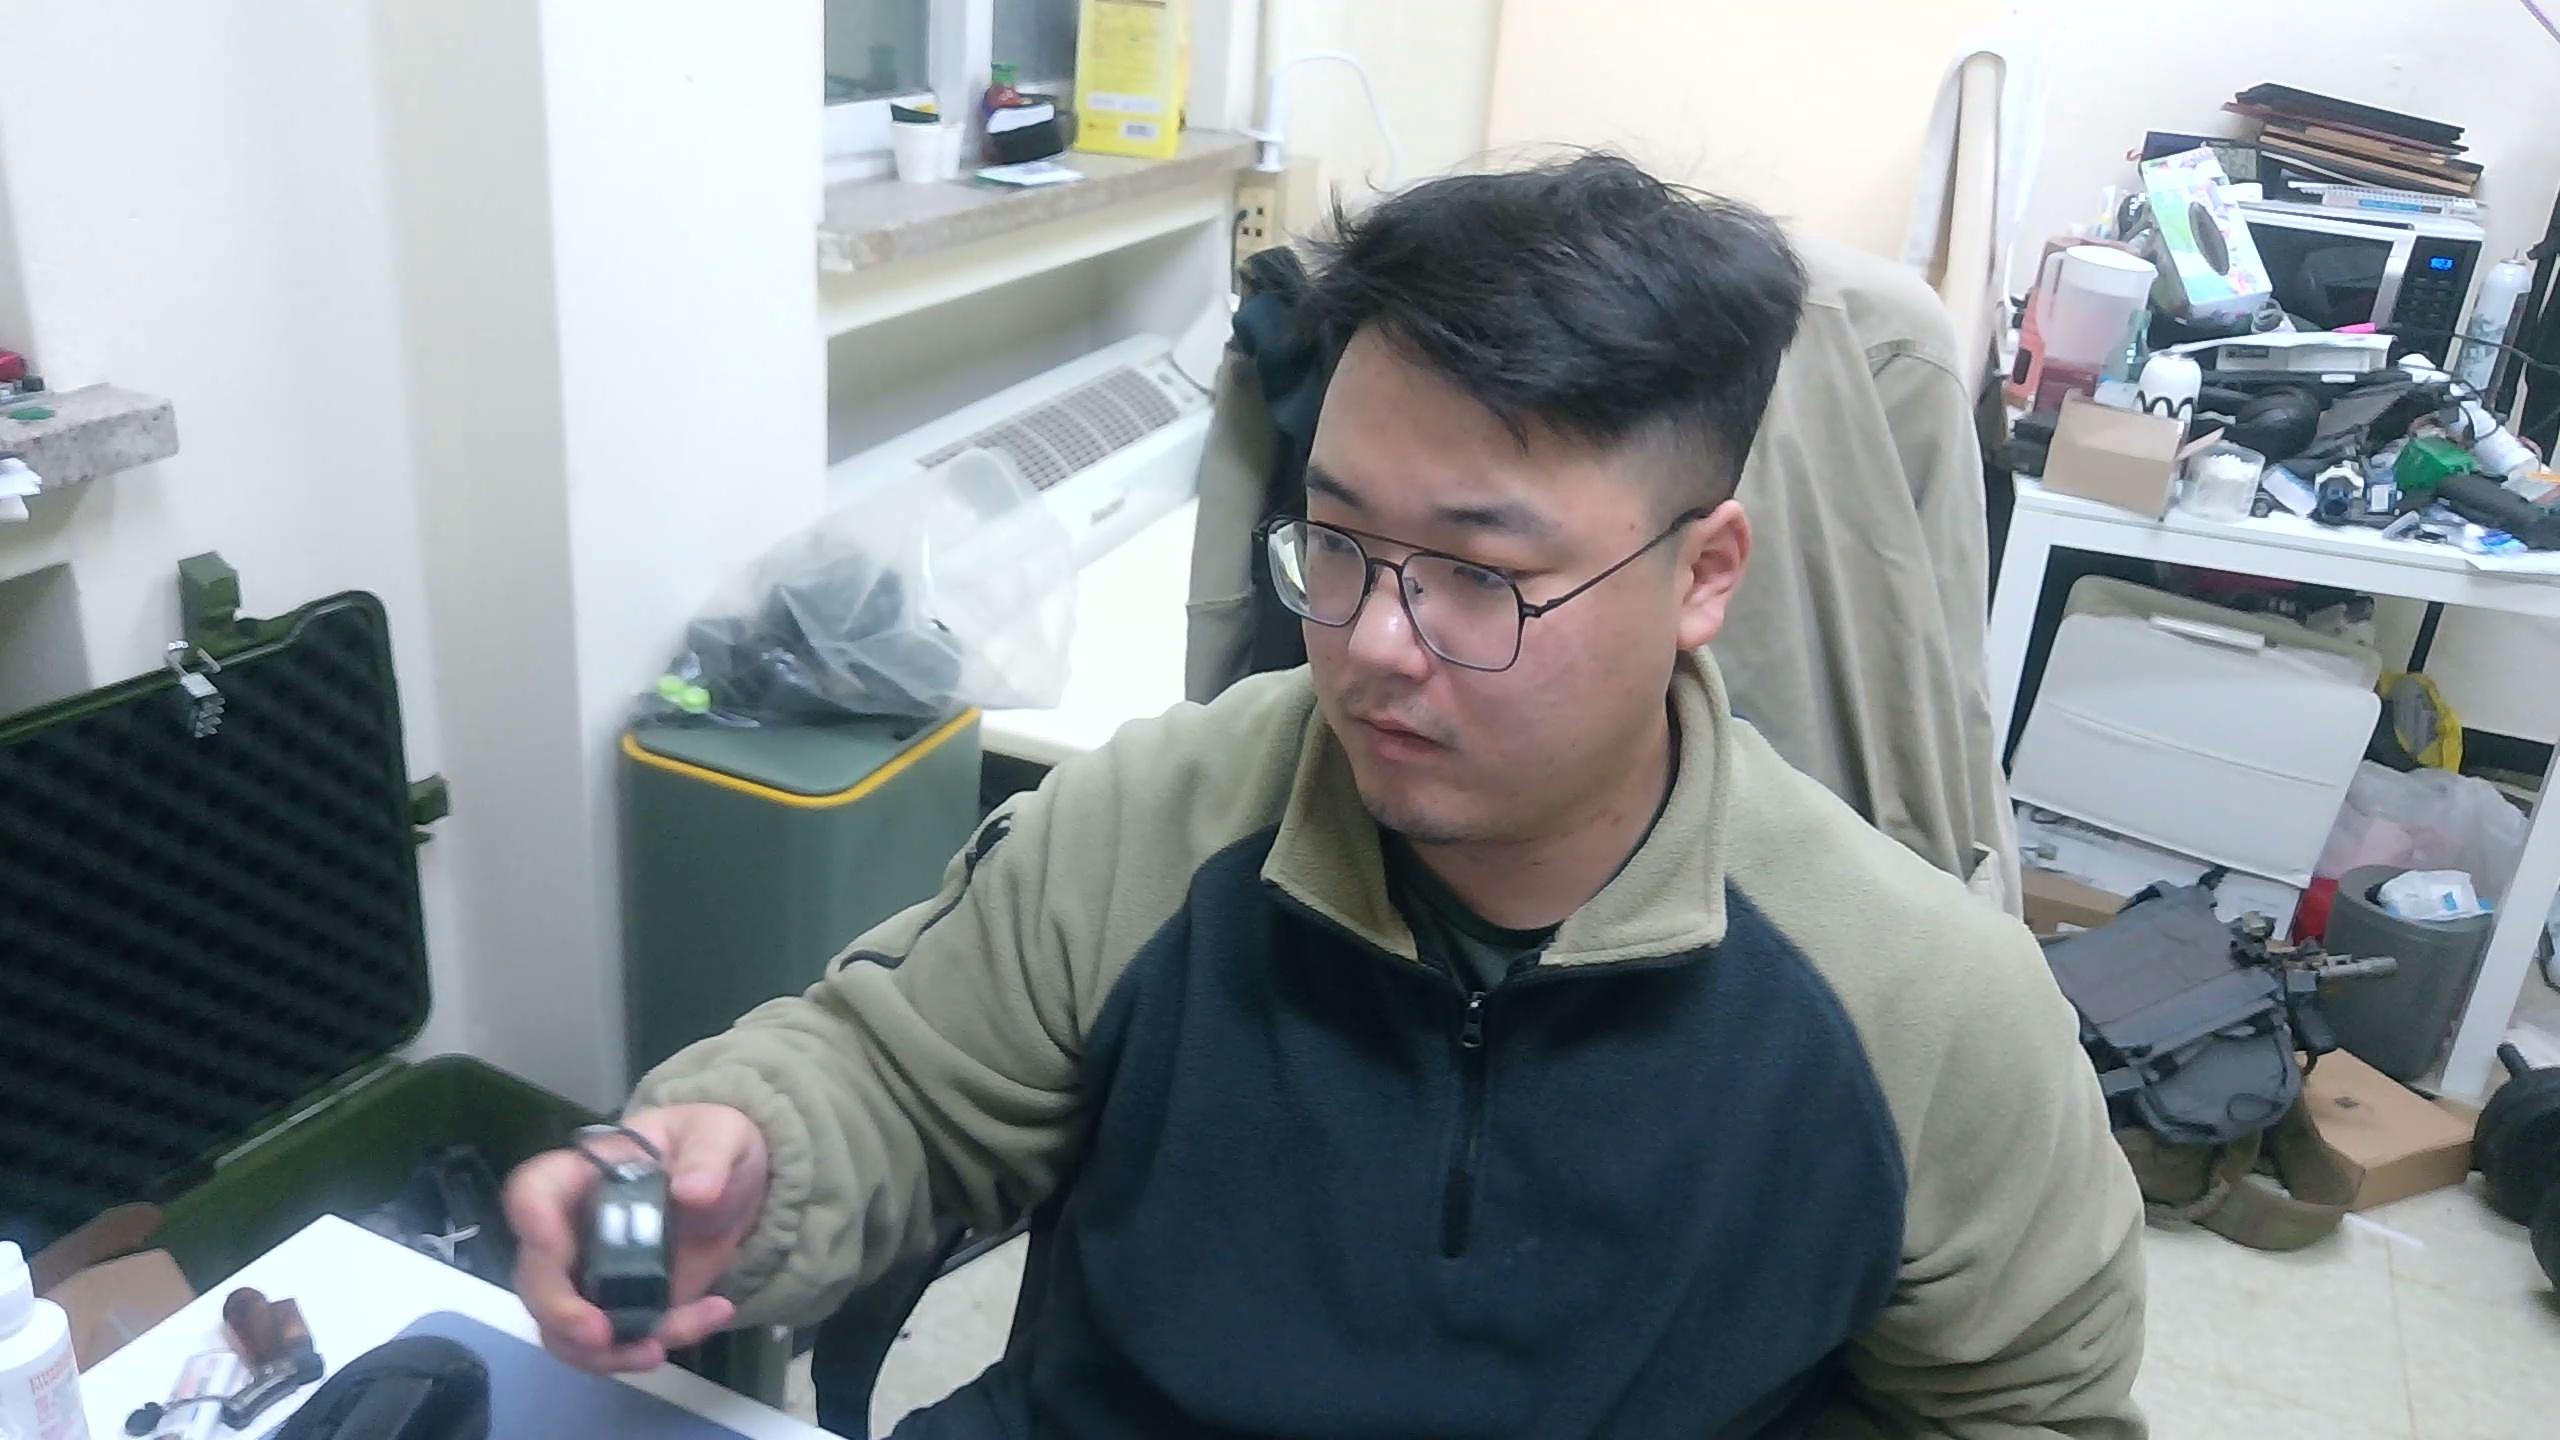blue_pliers: (571, 1122, 677, 1347)
